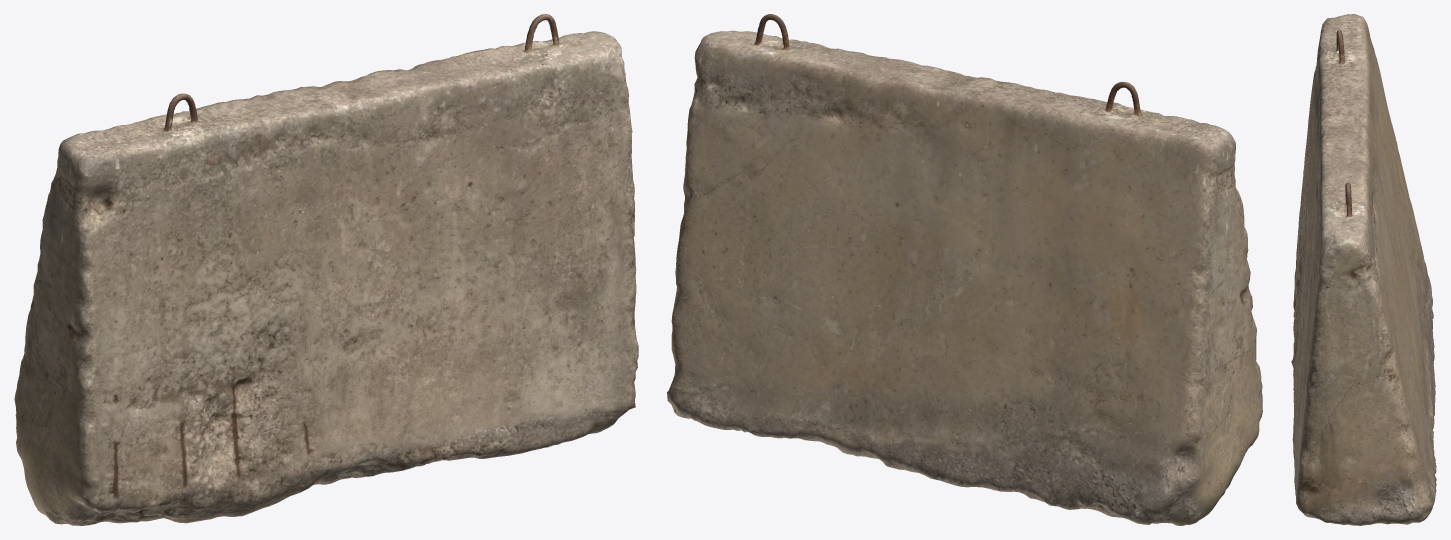
The model's file is road-barrier.glb.
The picture shows the model from 3 angles, left to right: view 1: azimuth 30°, elevation 25°; view 2: azimuth 150°, elevation 25°; view 3: azimuth 270°, elevation 25°; orthographic projection. The views are drawn at different scales.
Parts seen in each view (by area): view 1: concrete_road_barrier_02; view 2: concrete_road_barrier_02; view 3: concrete_road_barrier_02.
Part boxes in pixels (<box>): concrete_road_barrier_02: <box>14,14,638,525</box>; concrete_road_barrier_02: <box>667,14,1262,525</box>; concrete_road_barrier_02: <box>1291,14,1436,525</box>.
Size of the model in its own units: 1.57 by 1.11 by 0.4421.
Materials: 1 (1 with a texture image).
